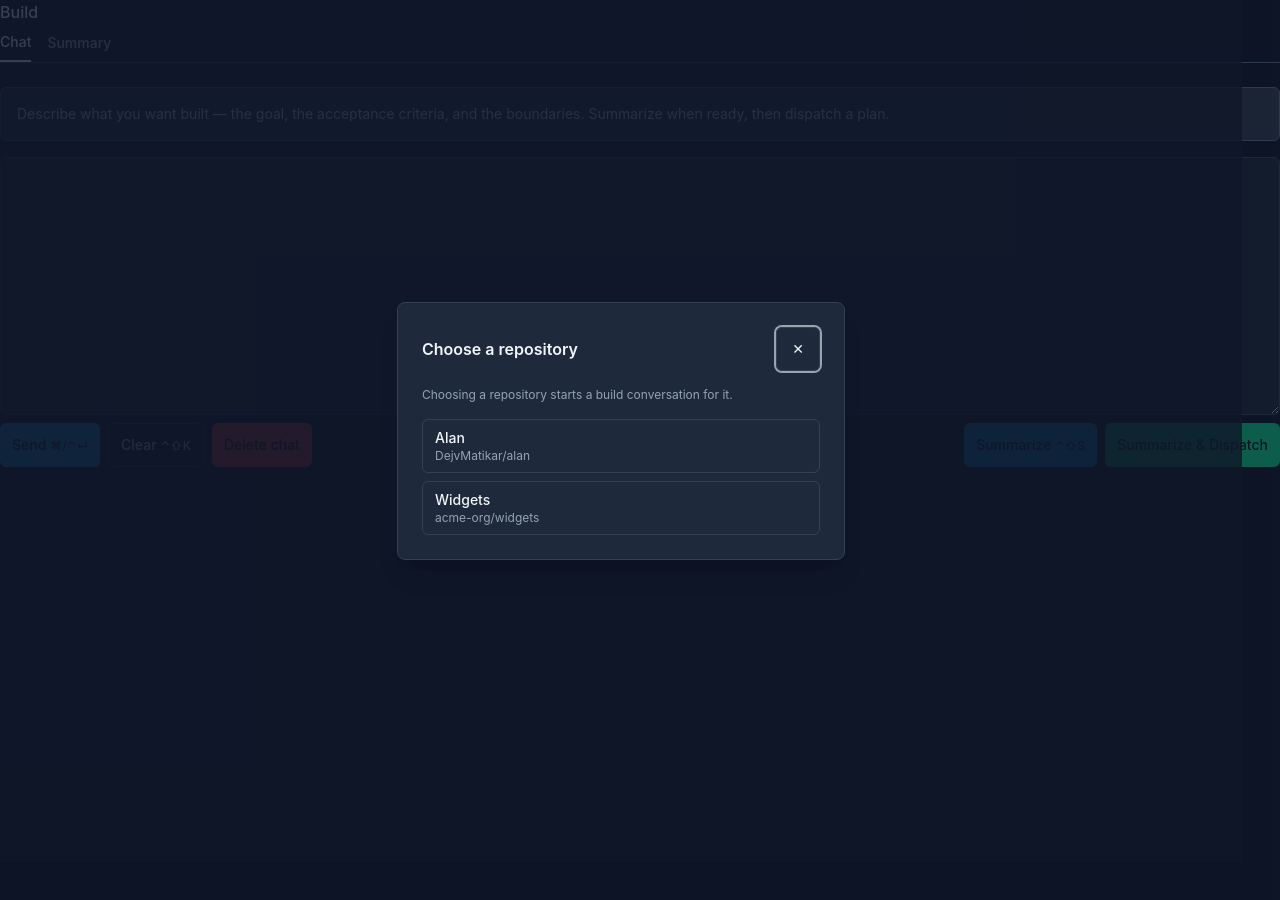
Scenario: BuildChat › Repo chooser (repo-visibility-and-selector) › shows a chooser with more than one repository connected, gates session creation, and binds the pick
Expected: the button with test id "repo-option-DejvMatikar/alan" is shown, [422, 419, 820, 473]
Click the button with test id "repo-option-acme-org/widgets" at (463, 500), box [422, 481, 820, 535]
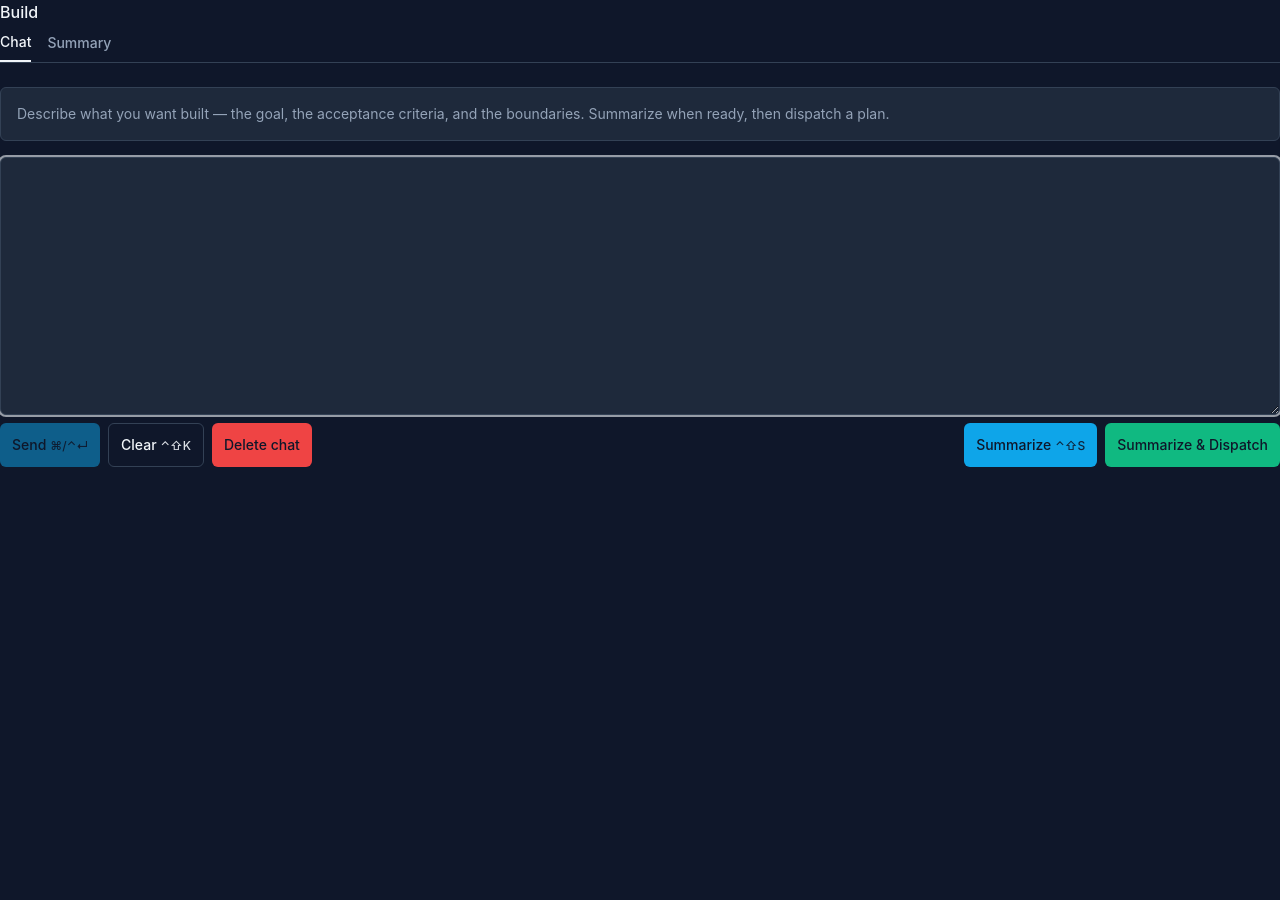
Expected: the dialog with test id "repo-chooser-modal" is gone
